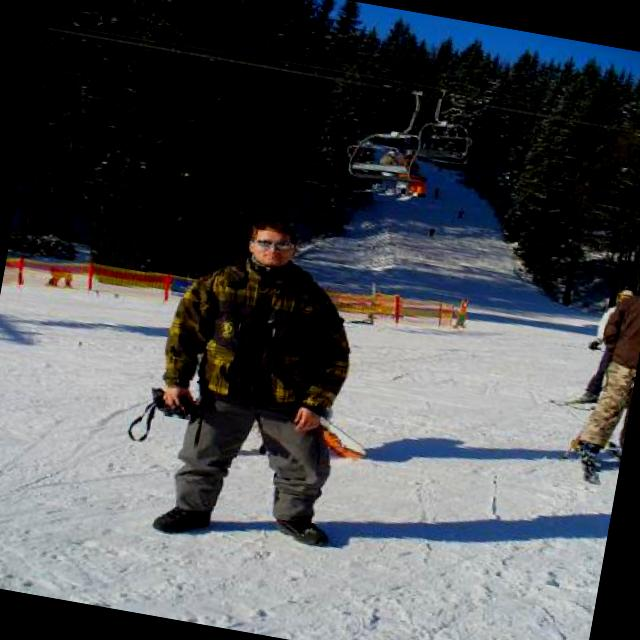Person: (130, 203, 378, 558), (565, 265, 640, 467), (572, 282, 632, 408), (389, 146, 434, 196), (348, 144, 388, 188), (377, 145, 398, 165)
